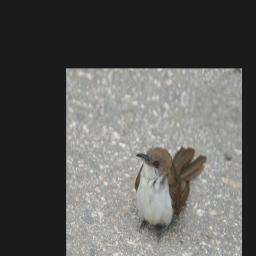Cuckoo: (127, 130, 208, 256)
